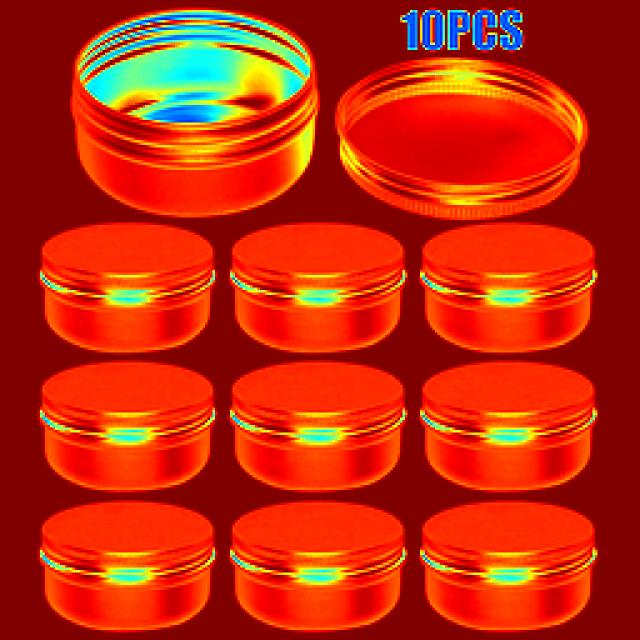Aluminium Food Cans: (78, 7, 317, 183), (332, 70, 574, 209), (422, 356, 618, 502), (29, 492, 223, 630), (37, 225, 223, 345), (232, 359, 396, 492), (436, 507, 616, 621), (230, 232, 409, 344), (427, 224, 595, 337), (237, 511, 410, 617), (48, 368, 206, 458)
